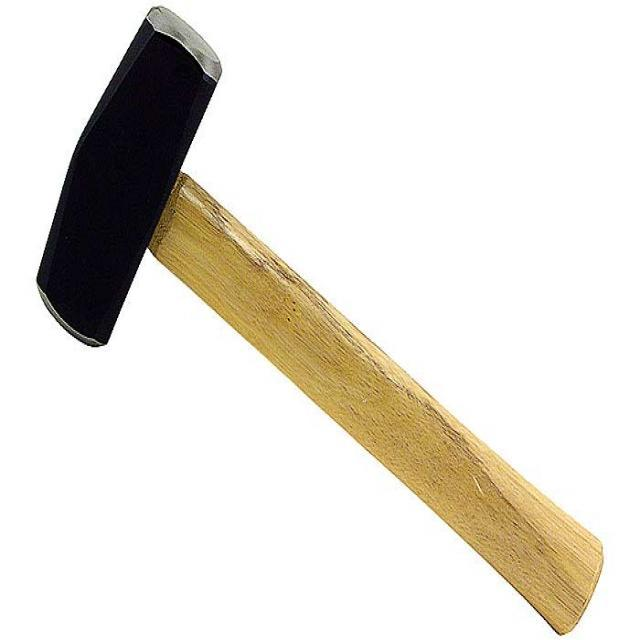hammer: (25, 0, 620, 640)
